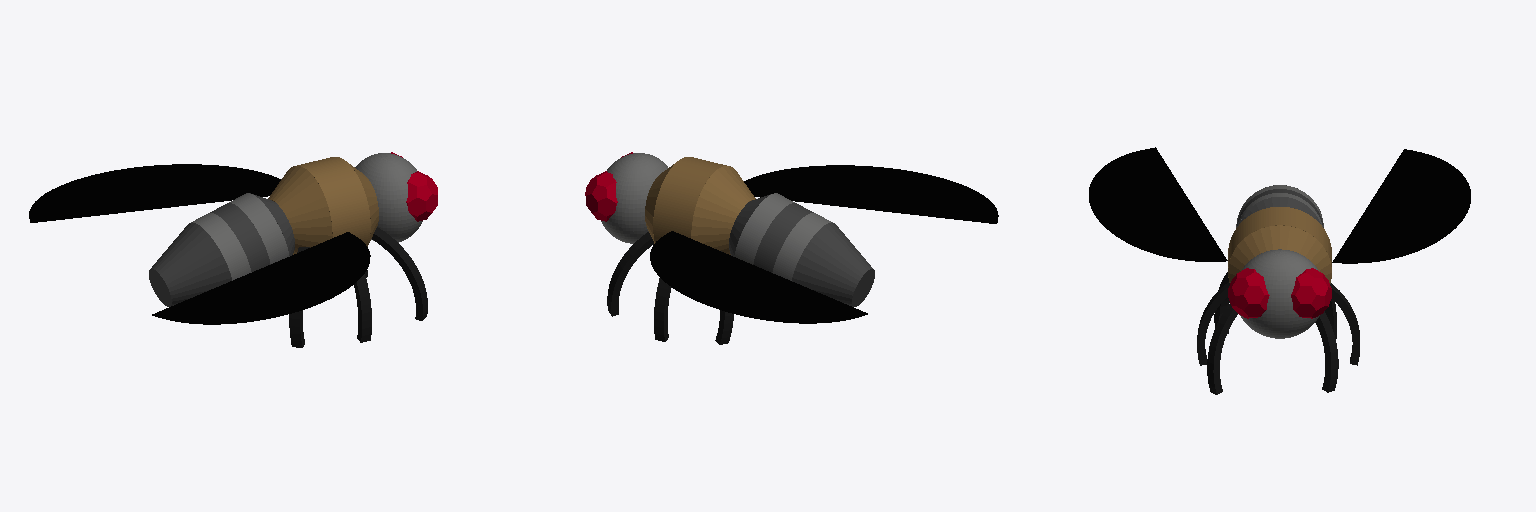
The picture shows the model from 3 angles: view 1: azimuth 30°, elevation 25°; view 2: azimuth 150°, elevation 25°; view 3: azimuth 270°, elevation 25°; orthographic projection.
Size of the model in its own units: 1 by 0.4261 by 0.9964.
6 materials, 6 textured.